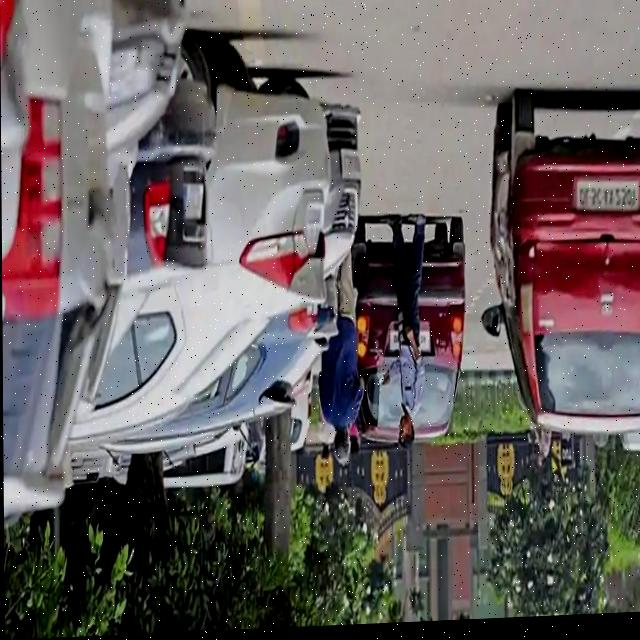plate: (575, 181, 639, 220)
